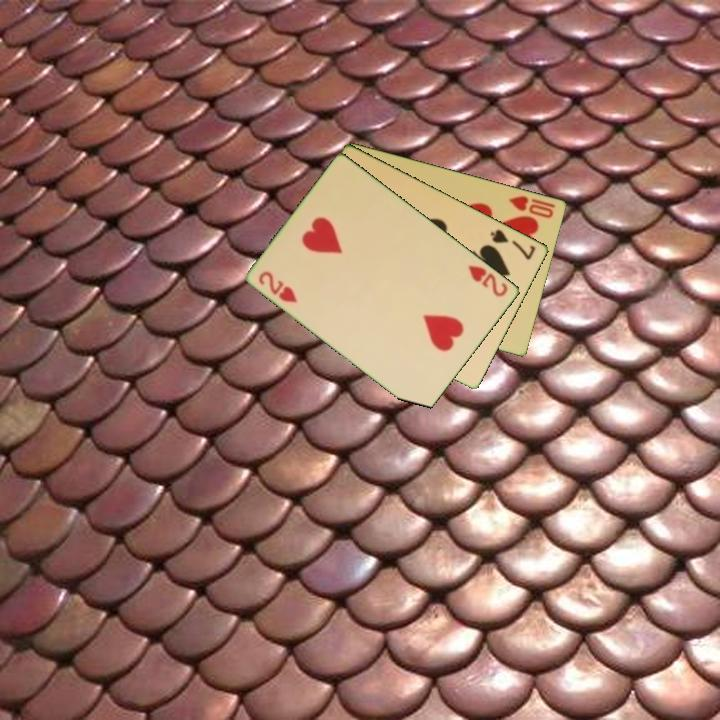10h: (506, 192, 559, 221)
2h: (465, 261, 511, 300), (255, 267, 301, 306)
7s: (487, 225, 539, 263)
